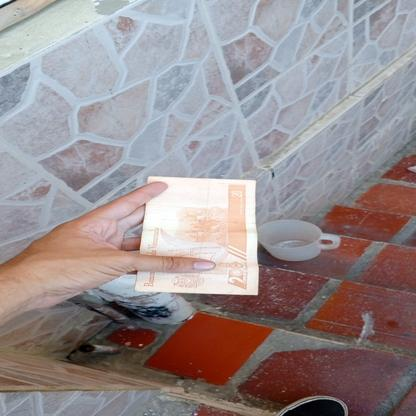twenty-back-vef: (134, 176, 258, 294)
